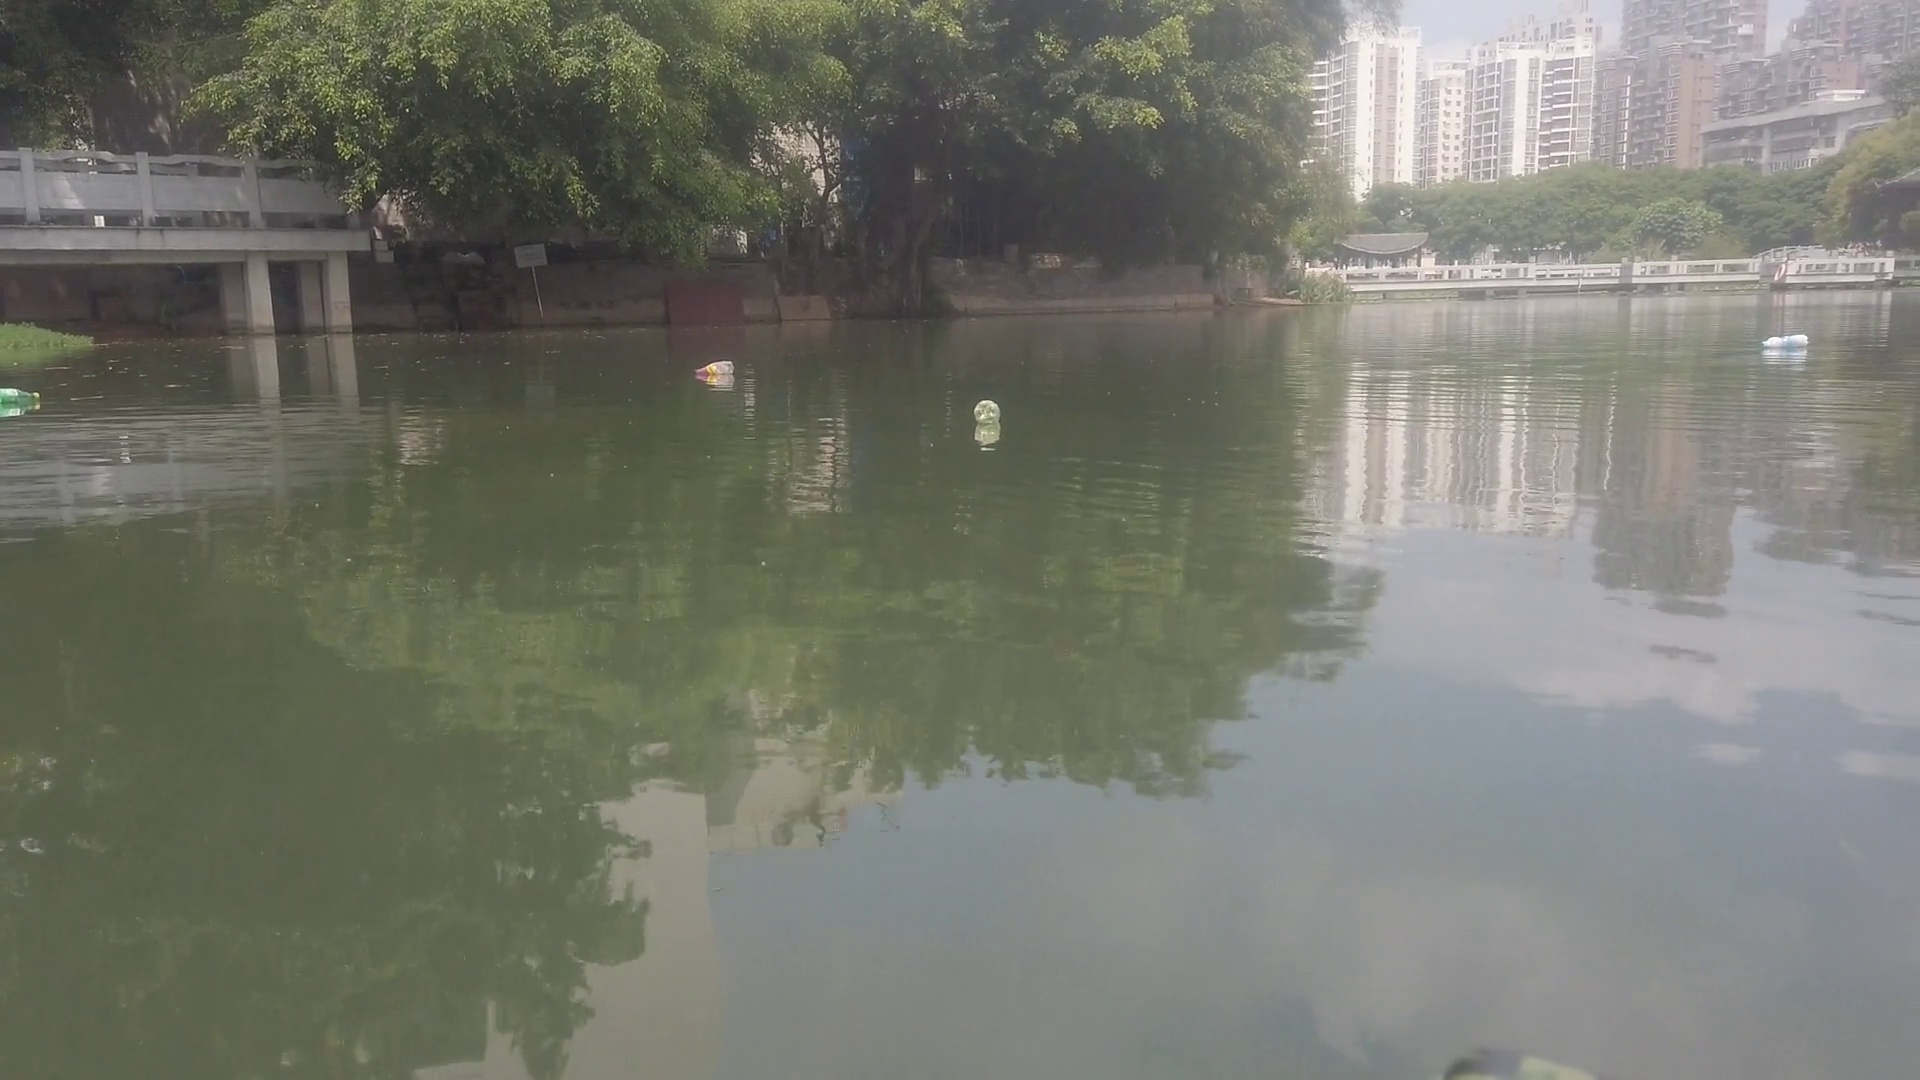bottle: (969, 396, 1005, 426), (1759, 334, 1811, 352), (1, 382, 41, 405), (690, 360, 737, 378)
